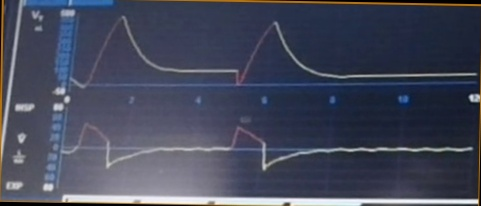Flow: (66, 117, 408, 185)
Leakage Volume: (75, 11, 412, 94)
